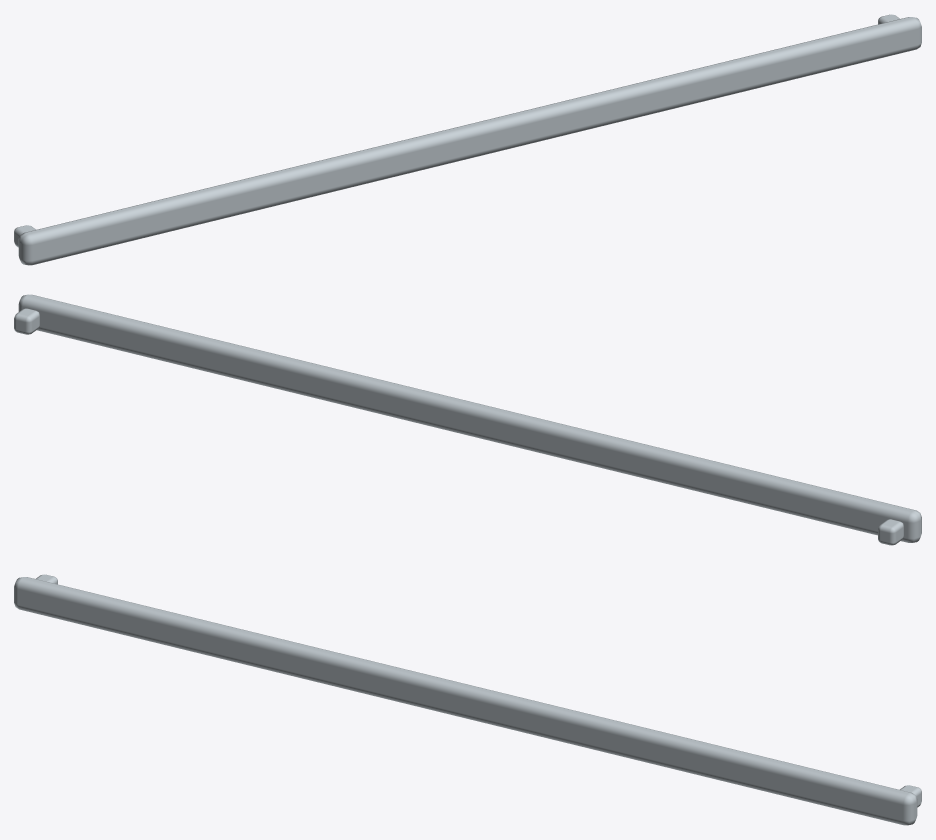
The model's file is SM_BarHandle_60.glb.
3 renders of one model, top to bottom at view 1: azimuth 30°, elevation 25°; view 2: azimuth 150°, elevation 25°; view 3: azimuth 330°, elevation 25°, orthographic.
Parts seen in each view (by area): view 1: SM_BarHandle_60; view 2: SM_BarHandle_60; view 3: SM_BarHandle_60.
Boxes of the visible parts, x1,y1,x2,y2 form: SM_BarHandle_60: (14,14,921,265); SM_BarHandle_60: (14,294,921,545); SM_BarHandle_60: (14,574,921,825).
Size of the model in its own units: 0.6 by 0.02 by 0.026.
1 material, 1 textured.
